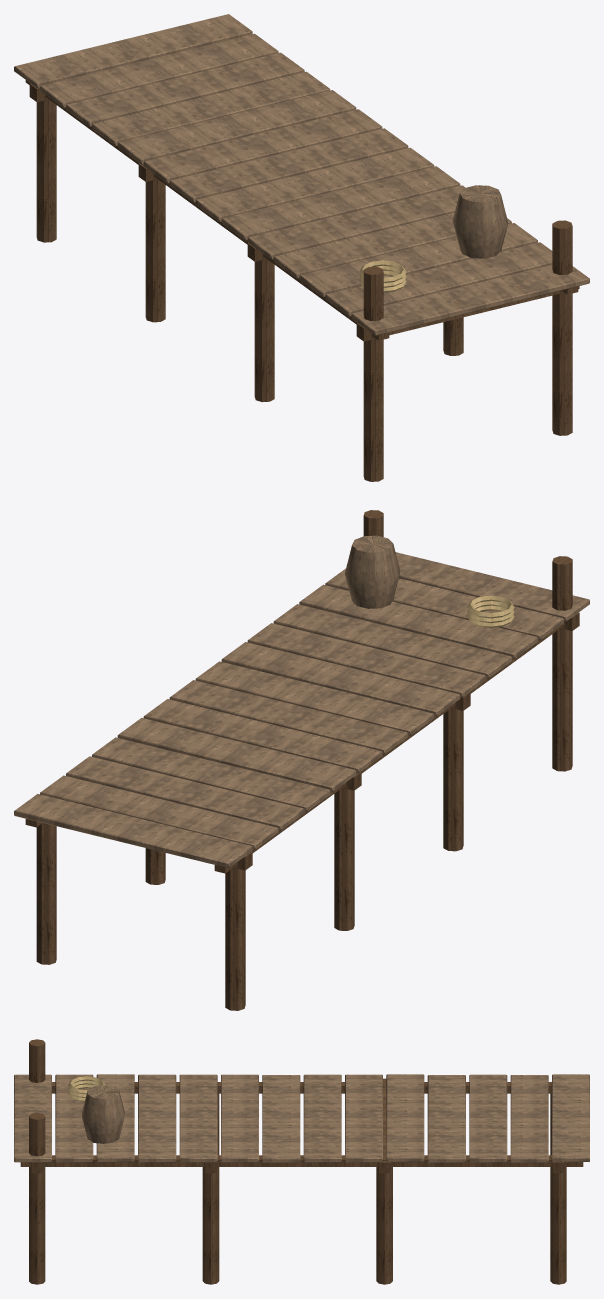
Rendered from water_pier.glb.
The picture shows the model from 3 angles, top to bottom: view 1: azimuth 30°, elevation 25°; view 2: azimuth 150°, elevation 25°; view 3: azimuth 270°, elevation 25°; orthographic projection. The views are drawn at different scales.
Visible parts, largest first — view 1: wood, wood_dark, rope; view 2: wood, wood_dark, rope; view 3: wood, wood_dark, rope.
Boxes of the visible parts, x1,y1,x2,y2 form: wood: (14,14,589,335); wood_dark: (25,80,579,481); rope: (359,260,406,292); wood: (14,535,589,868); wood_dark: (25,510,579,1010); rope: (467,595,514,627); wood: (14,1074,589,1162); wood_dark: (20,1039,583,1284); rope: (68,1076,105,1101).
Bounding box in the file's own units: 2.4 × 2.31 × 6.96.
Materials: 3 (3 with a texture image).
